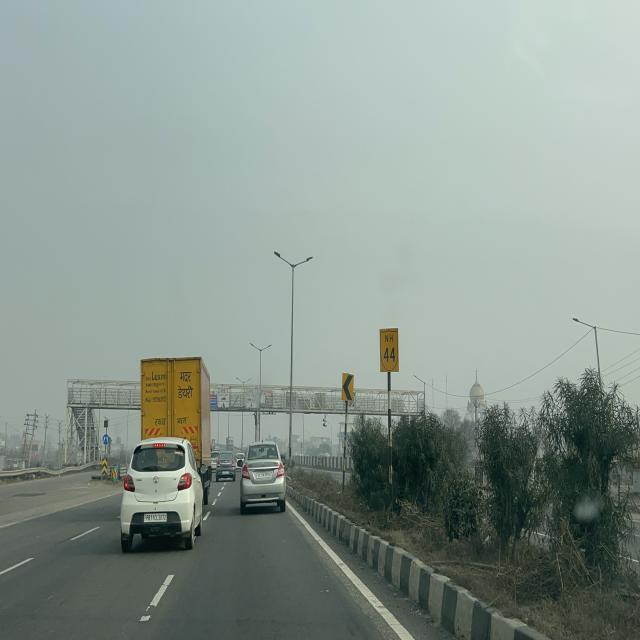KEEP_EITHER_SIDE: (103, 434, 109, 445)
TURN_LEFT: (342, 374, 354, 402)
